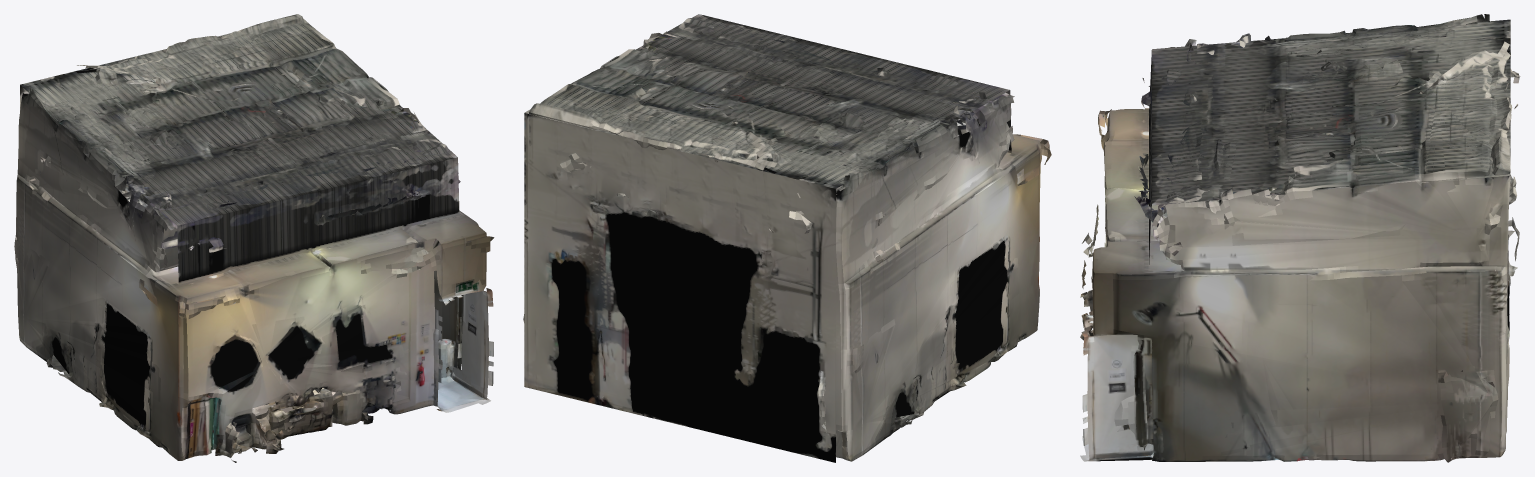
File: Phot_studio_02-IM.fbx
3 views of the same model, side by side, from view 1: azimuth 30°, elevation 25°; view 2: azimuth 150°, elevation 25°; view 3: azimuth 270°, elevation 25° (orthographic). The views are drawn at different scales.
Visible parts, largest first — view 1: Phot_studio_02-IM; view 2: Phot_studio_02-IM; view 3: Phot_studio_02-IM.
Boxes of the visible parts, x1,y1,x2,y2 form: Phot_studio_02-IM: [14, 14, 494, 462]; Phot_studio_02-IM: [523, 14, 1051, 462]; Phot_studio_02-IM: [1080, 14, 1520, 462].
Size of the model in its own units: 729 by 575 by 769.
Materials: 1 (1 with a texture image).
